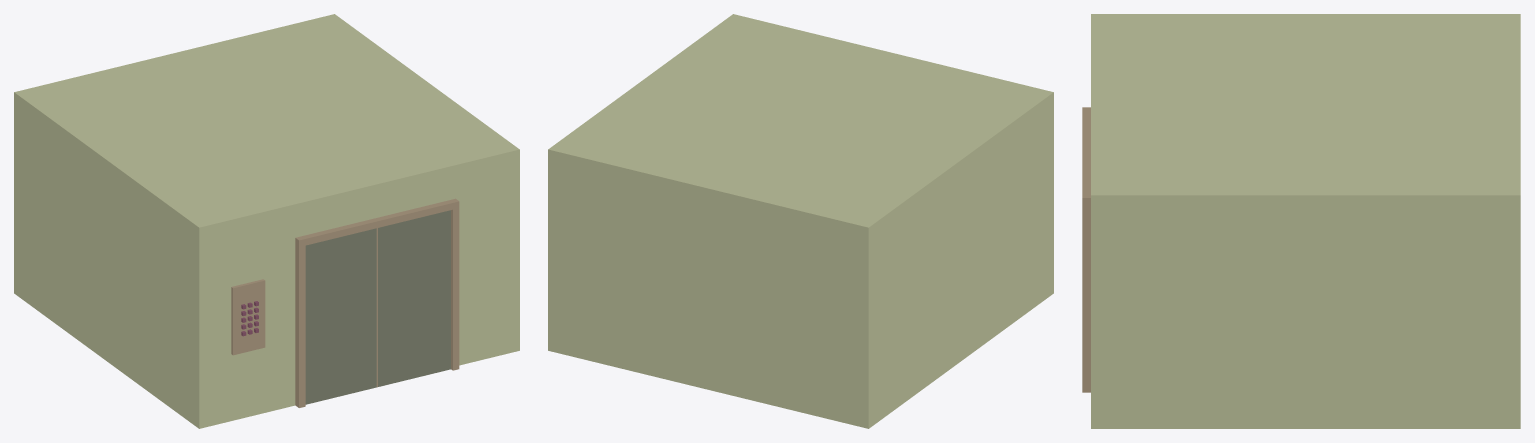
File: elevator.glb
The picture shows the model from 3 angles, left to right: view 1: azimuth 30°, elevation 25°; view 2: azimuth 150°, elevation 25°; view 3: azimuth 270°, elevation 25°; orthographic projection. The views are drawn at different scales.
Visible parts, largest first — view 1: elevator; view 2: elevator; view 3: elevator.
Boxes of the visible parts, x1,y1,x2,y2 form: elevator: [14, 14, 519, 428]; elevator: [548, 14, 1053, 428]; elevator: [1082, 14, 1520, 428].
Size of the model in its own units: 5 by 3 by 5.1.
Materials: 1 (1 with a texture image).
